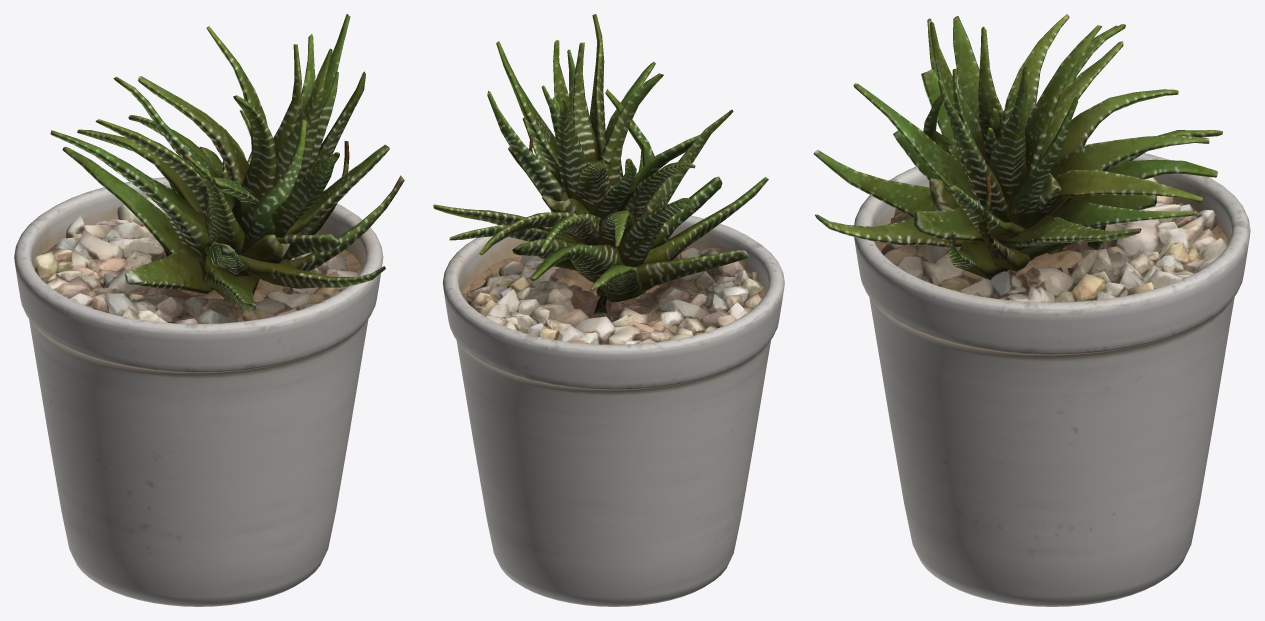
File: potted_plant_04.glb
3 views of the same model, side by side, from view 1: azimuth 30°, elevation 25°; view 2: azimuth 150°, elevation 25°; view 3: azimuth 270°, elevation 25° (orthographic). The views are drawn at different scales.
Visible parts, largest first — view 1: potted_plant_04_pot, potted_plant_04_plant, potted_plant_04_ground, potted_plant_04_dirt; view 2: potted_plant_04_pot, potted_plant_04_plant, potted_plant_04_ground, potted_plant_04_dirt; view 3: potted_plant_04_pot, potted_plant_04_plant, potted_plant_04_ground, potted_plant_04_dirt.
Part boxes in pixels (left/top/right/bottom): potted_plant_04_pot: left=14, top=177, right=383, bottom=606; potted_plant_04_plant: left=50, top=14, right=404, bottom=311; potted_plant_04_ground: left=34, top=196, right=357, bottom=323; potted_plant_04_dirt: left=34, top=238, right=362, bottom=307; potted_plant_04_pot: left=442, top=215, right=784, bottom=606; potted_plant_04_plant: left=433, top=14, right=768, bottom=314; potted_plant_04_ground: left=463, top=247, right=765, bottom=344; potted_plant_04_dirt: left=462, top=247, right=765, bottom=306; potted_plant_04_pot: left=854, top=144, right=1250, bottom=606; potted_plant_04_plant: left=813, top=14, right=1222, bottom=279; potted_plant_04_ground: left=881, top=177, right=1227, bottom=302; potted_plant_04_dirt: left=875, top=200, right=1228, bottom=297.
Bounding box in the file's own units: 0.1679 × 0.2675 × 0.1848.
1 material, 1 textured.
